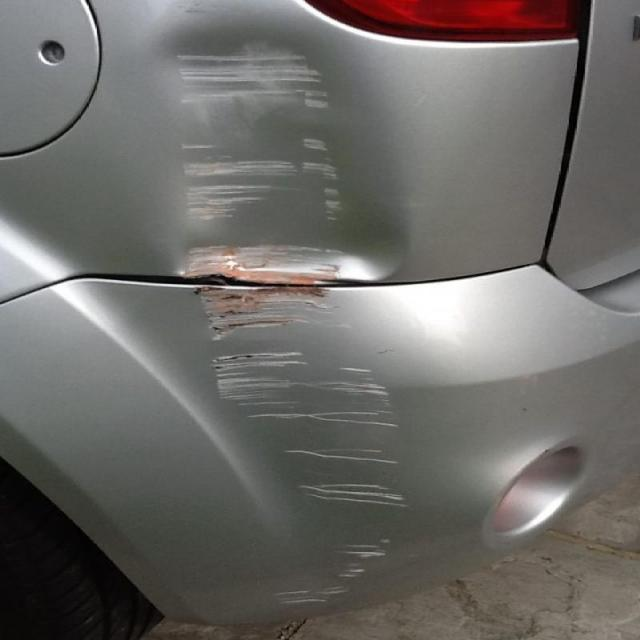dent: (171, 22, 410, 279)
scratch: (213, 348, 405, 432), (195, 285, 357, 345), (274, 538, 397, 605), (296, 478, 415, 513), (274, 447, 405, 466)
